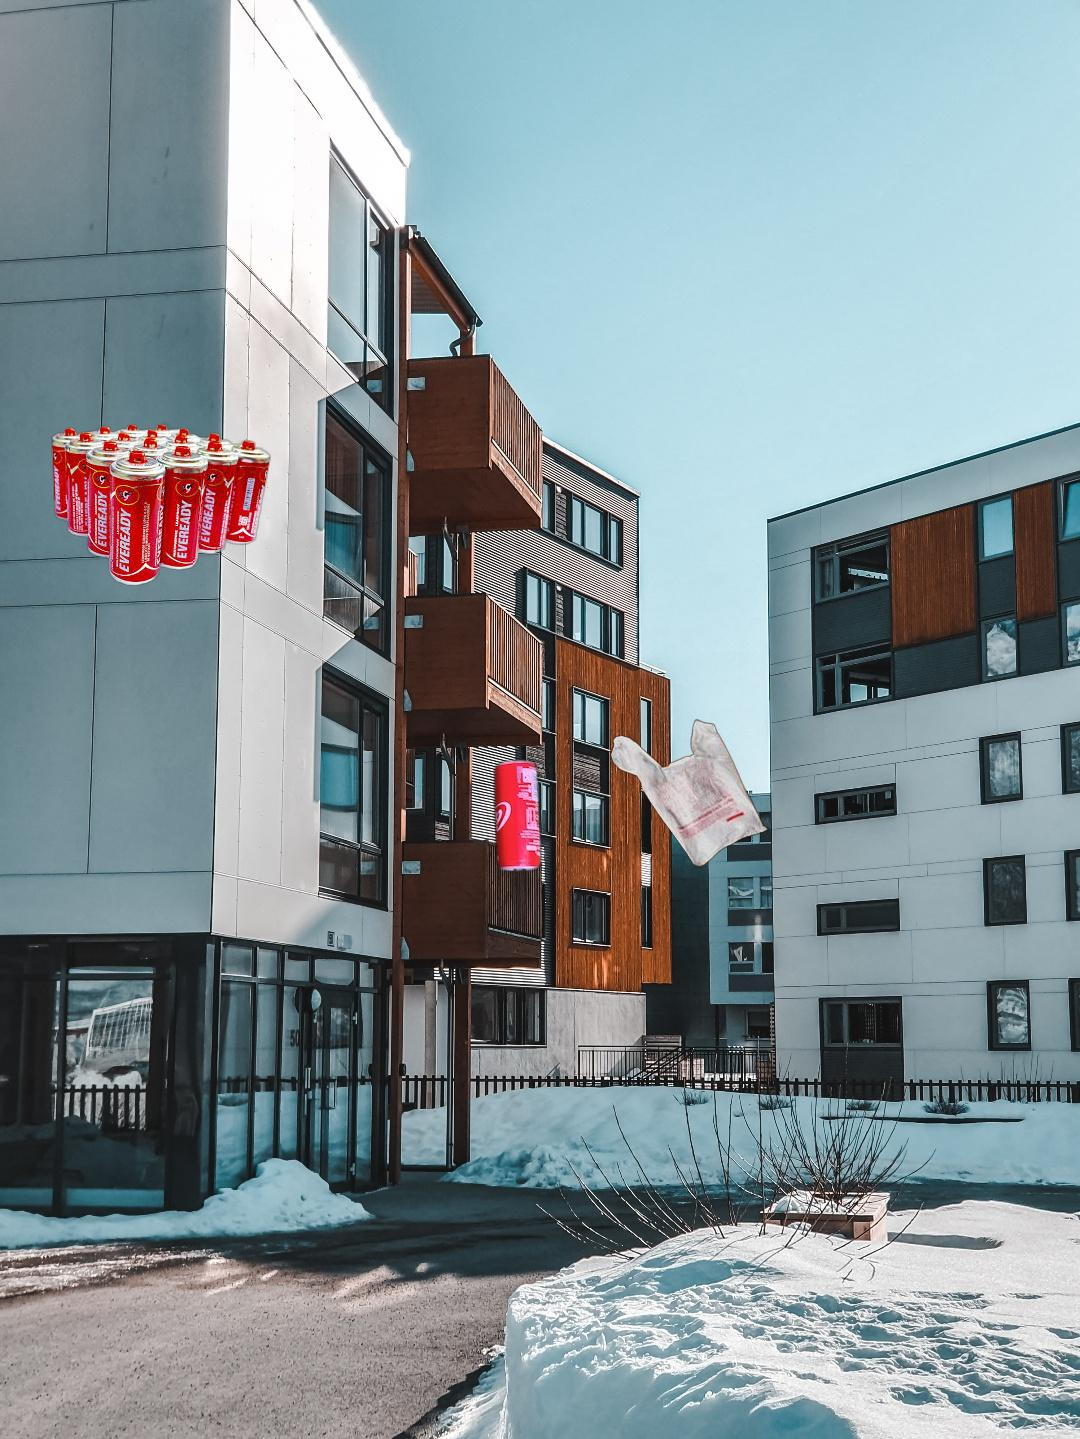battery: (49, 421, 273, 589)
metal-cans: (490, 754, 545, 878)
plastic-bag: (610, 717, 771, 870)
